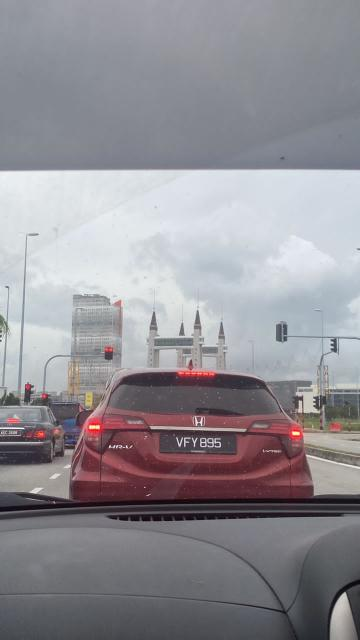License_Plate: (164, 432, 234, 455), (2, 427, 25, 441)
car: (73, 366, 321, 514)
